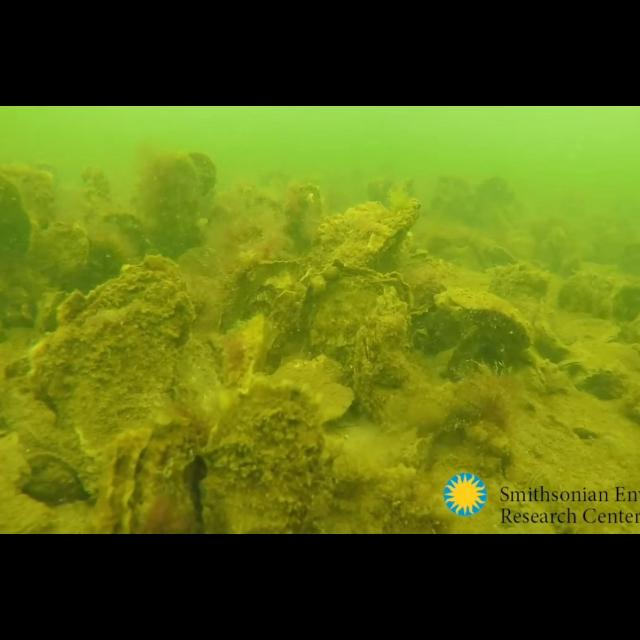Oyster-Closed: (24, 253, 198, 534), (199, 382, 327, 534), (296, 197, 422, 319), (298, 260, 412, 388), (219, 258, 303, 369), (352, 292, 418, 433), (130, 420, 206, 534), (154, 151, 216, 255), (435, 286, 533, 346), (34, 220, 90, 304), (92, 213, 152, 291), (286, 186, 322, 256)
